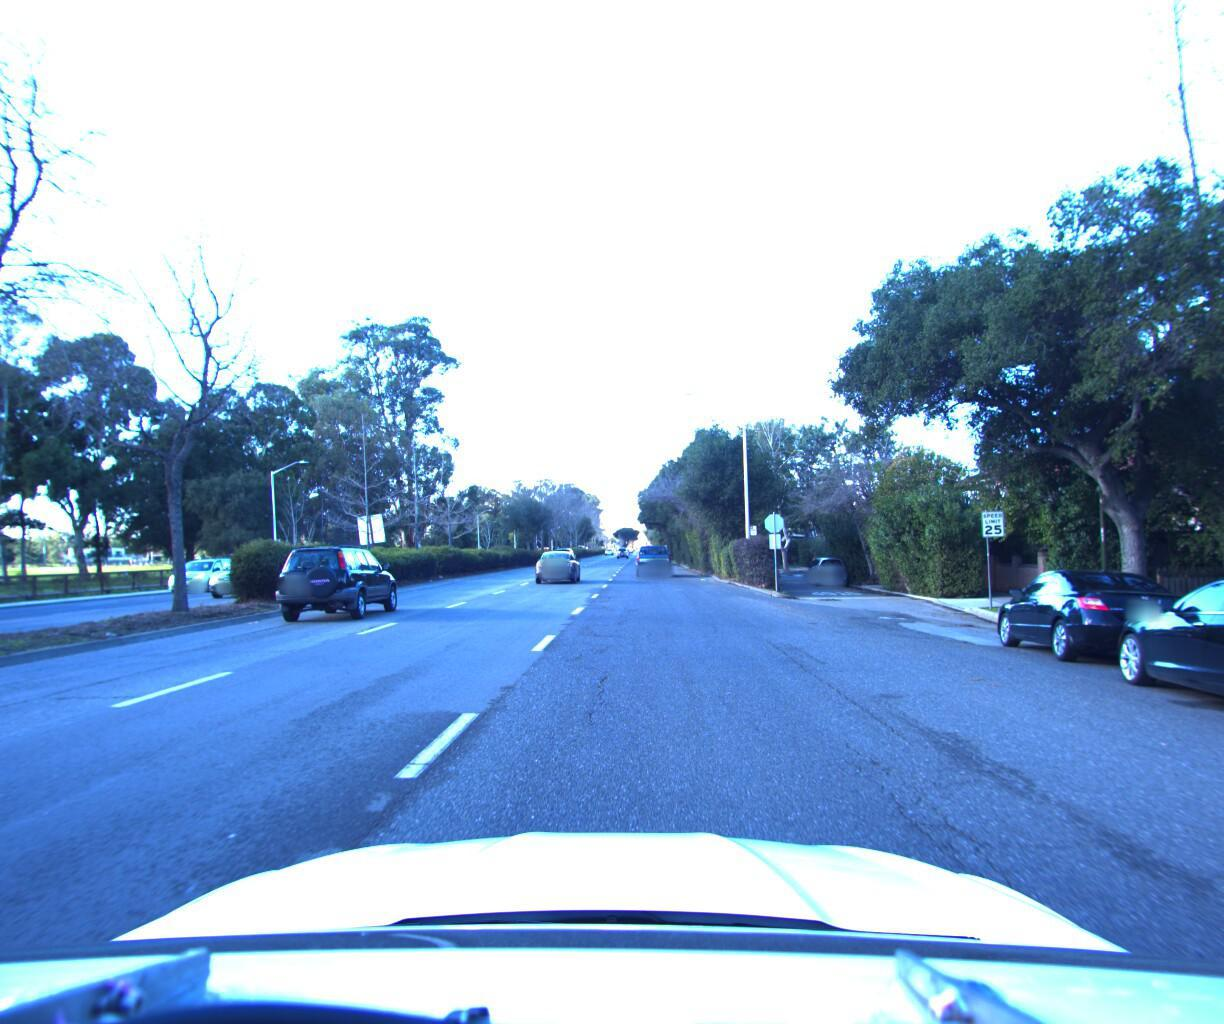car: (1085, 558, 1224, 764), (979, 555, 1219, 672), (263, 529, 408, 623), (199, 550, 297, 596), (158, 553, 250, 593), (529, 545, 582, 580), (631, 537, 678, 573), (799, 550, 849, 581)
